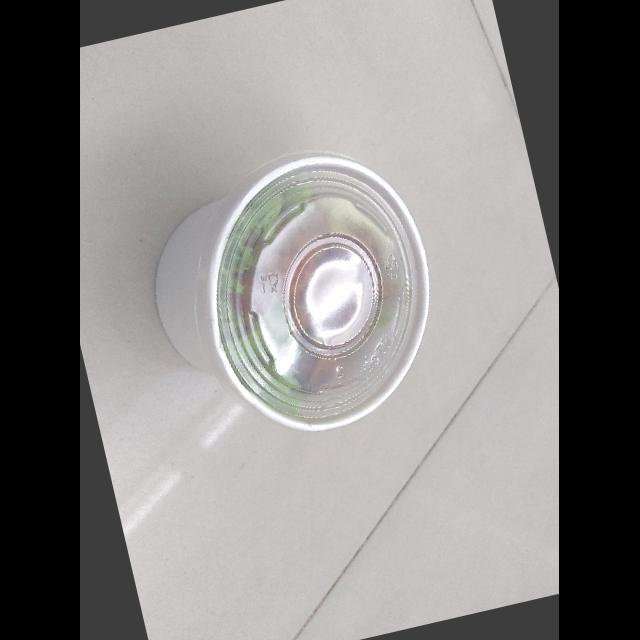rice-bowl: (120, 131, 474, 475)
